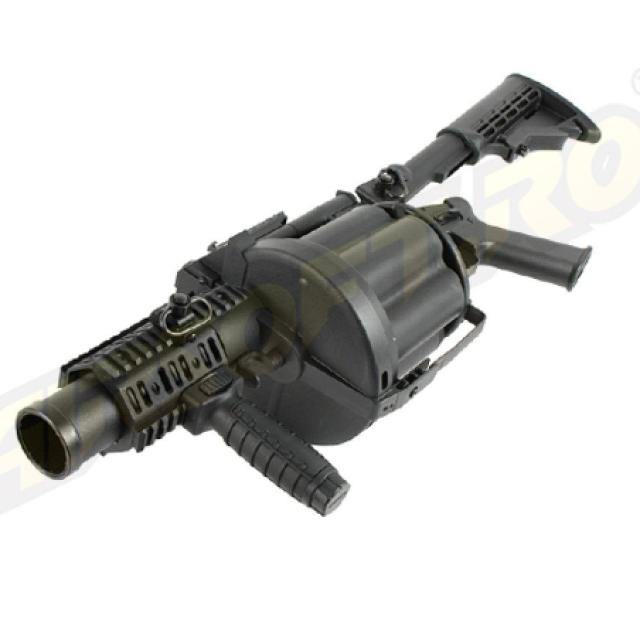Weapon: (16, 74, 599, 515)
